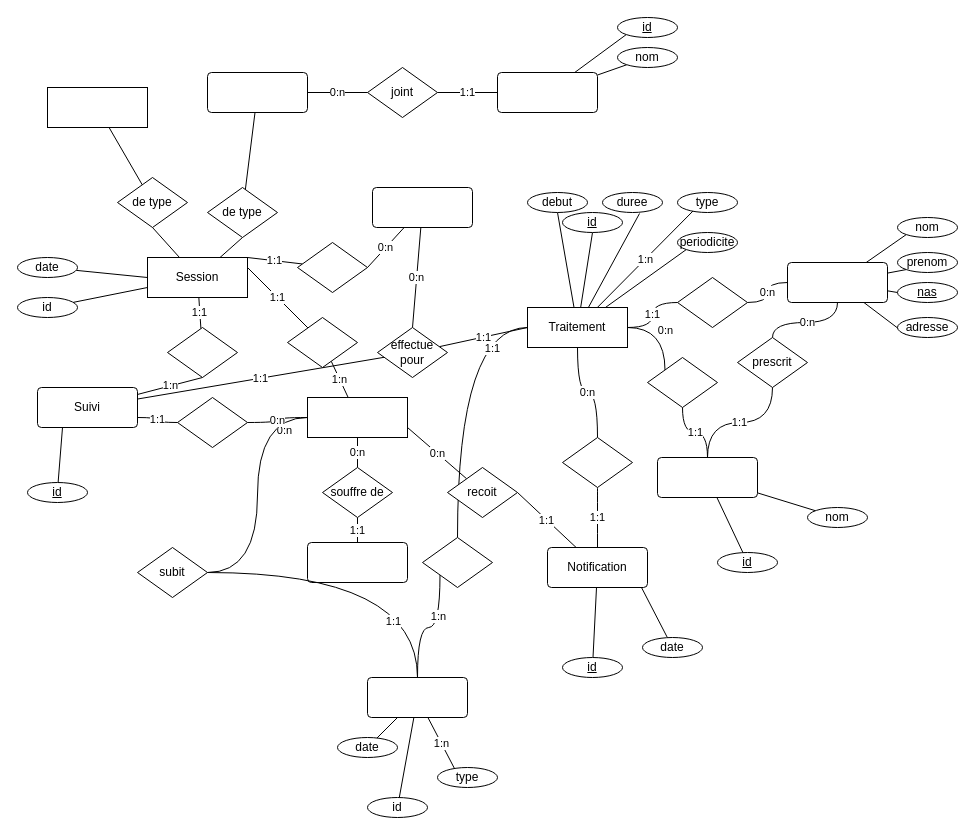
Image size: 975x835. Some labels were removed from this diagram. The shapes that lost their labels are listed below. From the top down, each one's centre as x and y in pixels, then its label:
At point 97,107: "Appel".
At point 257,92: "Message".
At point 547,92: "Image".
At point 422,207: "Infirmiere".
At point 332,267: "participe".
At point 837,282: "Medecin".
At point 712,302: "valide".
At point 202,352: "pendant".
At point 322,342: "initie".
At point 682,382: "necessite".
At point 212,422: "beneficie".
At point 357,417: "Patient".
At point 597,462: "emettre".
At point 707,477: "Medicament".
At point 357,562: "Affliction".
At point 457,562: "engendre".
At point 417,697: "Operation".
